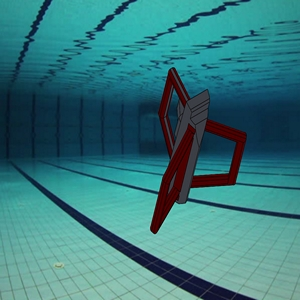submarine: (107, 51, 269, 240)
